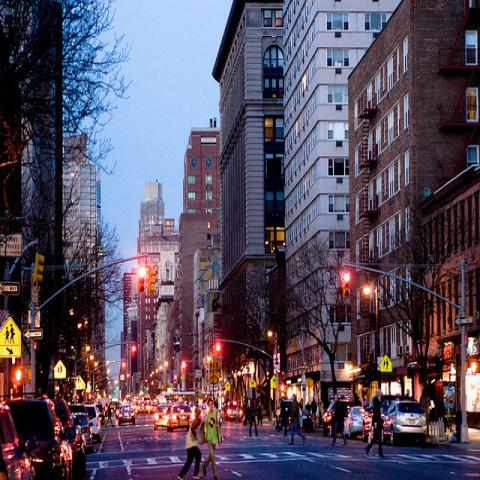bus: (165, 392, 219, 406)
car: (1, 392, 390, 479), (8, 400, 73, 473), (381, 400, 428, 444), (71, 412, 94, 455), (168, 404, 195, 432), (343, 407, 366, 439), (284, 400, 303, 428), (86, 405, 102, 437), (322, 401, 335, 437), (154, 406, 172, 431), (224, 402, 243, 421), (118, 405, 135, 426), (301, 410, 314, 430), (137, 402, 149, 415)
